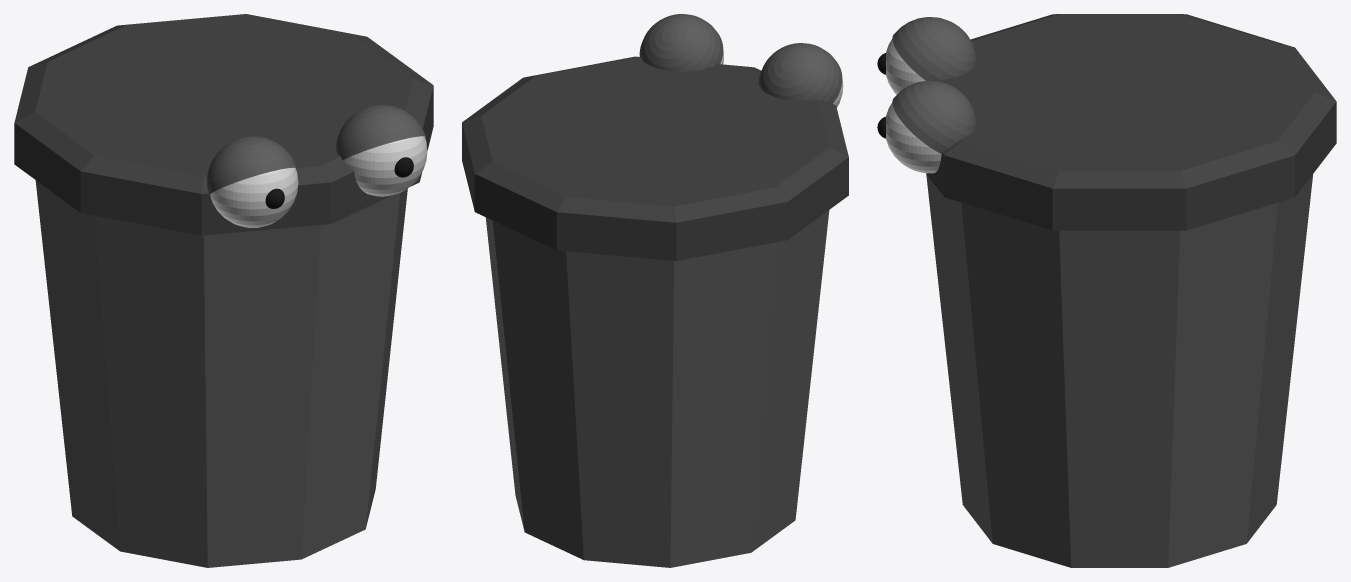
File: Pet.fbx
3 views of the same model, side by side, from view 1: azimuth 30°, elevation 25°; view 2: azimuth 150°, elevation 25°; view 3: azimuth 270°, elevation 25° (orthographic). The views are drawn at different scales.
Visible parts, largest first — view 1: body, head, eye_l, eye_r; view 2: body, head; view 3: body, head, eye_r, eye_l.
Boxes of the visible parts, x1,y1,x2,y2 form: body: (35,180,407,567); head: (14,14,433,235); eye_l: (210,167,298,227); eye_r: (344,136,427,196); body: (485,210,829,567); head: (462,14,848,261); body: (926,174,1313,567); head: (892,14,1336,230); eye_r: (877,103,941,173); eye_l: (877,39,925,94).
Bounding box in the file's own units: 1.05 × 1.27 × 1.17.
1 material, 1 textured.
